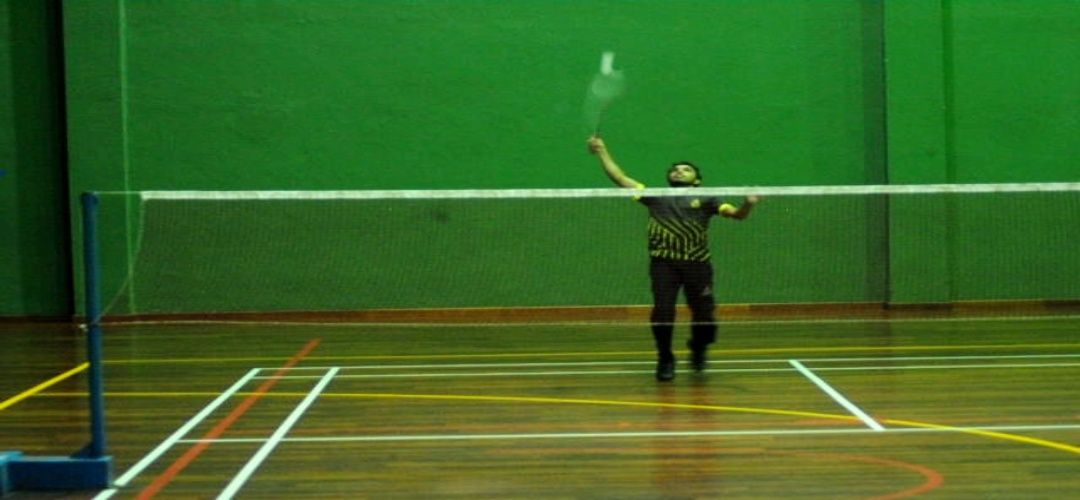c1: (266, 433, 286, 450)
c2: (852, 421, 905, 436)
player: (601, 162, 763, 383)
shuttle: (596, 48, 621, 77)
